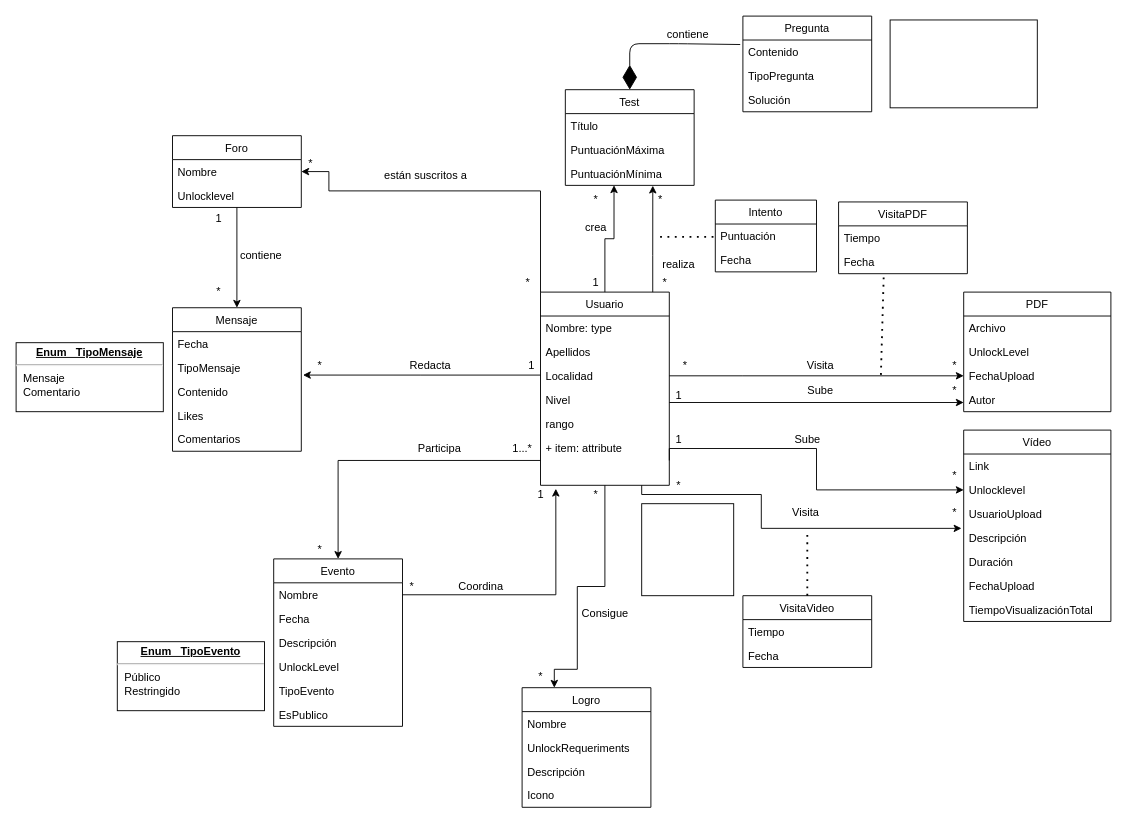
This 1127x826 diagram has some shape labels left out. Here are the shapes that lost their labels. From the top down, the centre of each, then its label:
the point at 963,63: Enum TipoPregunta Test Desarrollo Completar Archivo
the point at 687,549: Enum rango Miembro Coordinador Autor Diseñador etc etc
